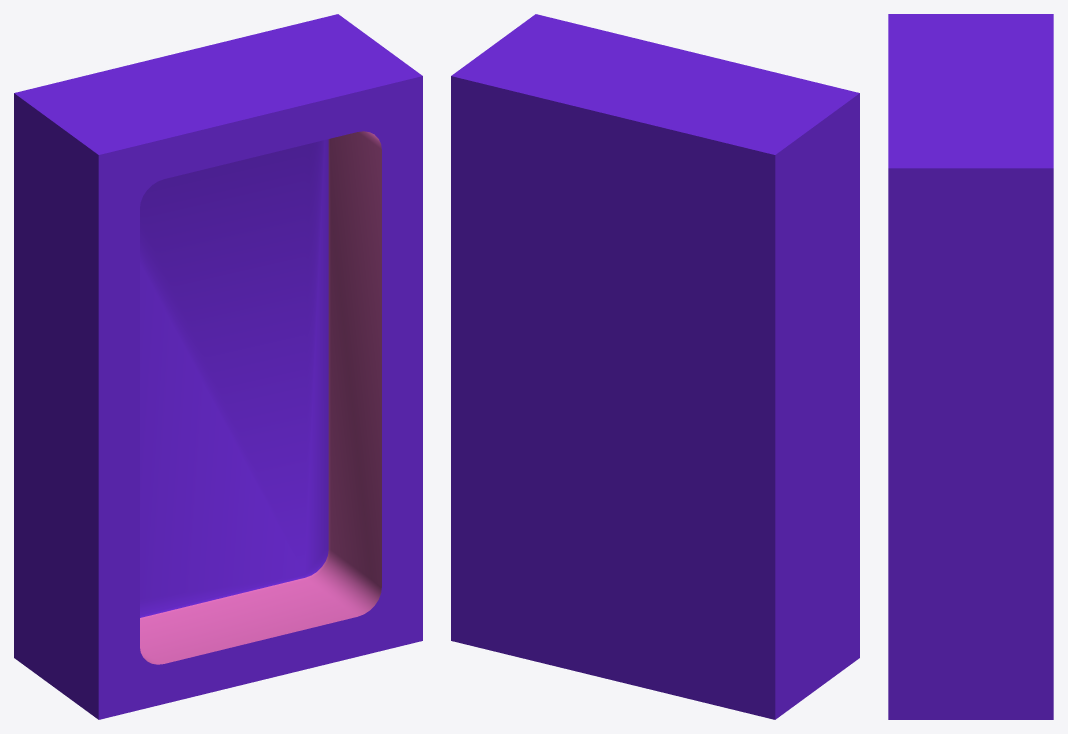
File: Wall2049.fbx
3 renders of one model, left to right at view 1: azimuth 30°, elevation 25°; view 2: azimuth 150°, elevation 25°; view 3: azimuth 270°, elevation 25°, orthographic. The views are drawn at different scales.
Parts seen in each view (by area): view 1: Cube.001; view 2: Cube.001; view 3: Cube.001.
Part boxes in pixels (bbox=[...]): Cube.001: bbox=[14, 14, 422, 719]; Cube.001: bbox=[451, 14, 859, 719]; Cube.001: bbox=[888, 14, 1053, 719].
Bounding box in the file's own units: 1068 × 1779 × 484.
